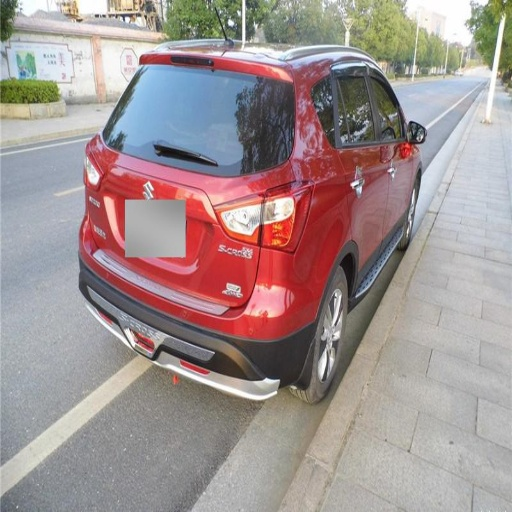back_bumper: (85, 249, 329, 402)
back_right_door: (331, 61, 387, 291)
trunk: (84, 146, 317, 315), (307, 210, 344, 269)
